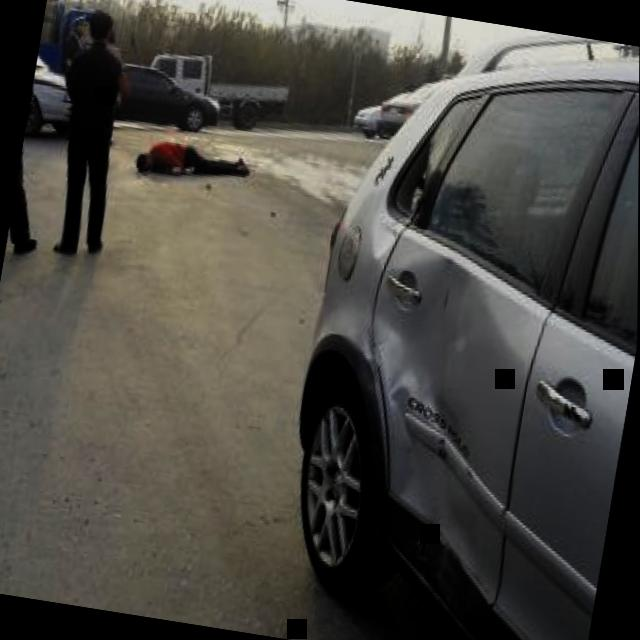Fall-Detected: (120, 120, 262, 196)
